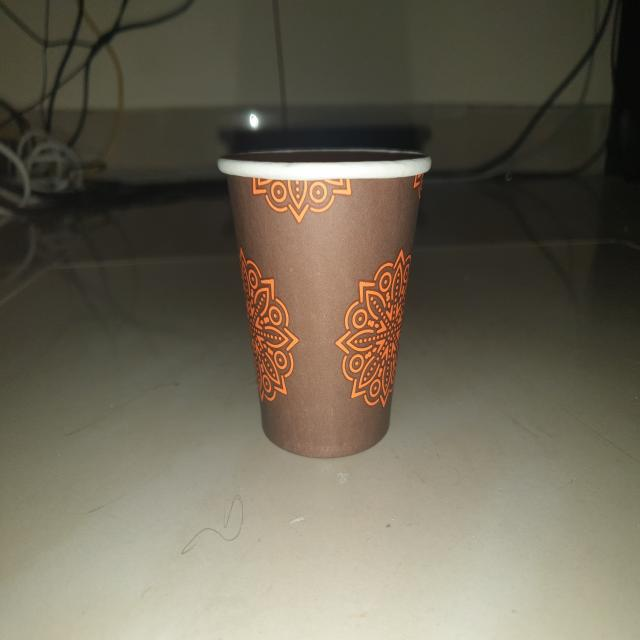cups: (216, 141, 438, 458)
